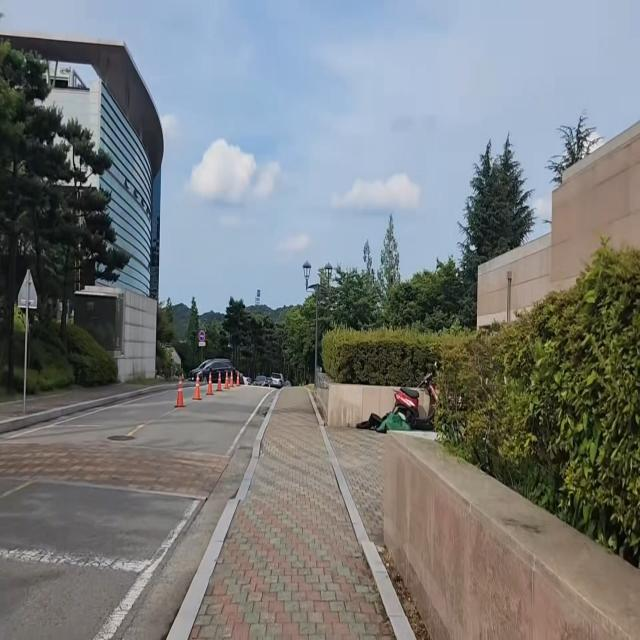obstacle: (12, 258, 42, 430)
road: (0, 384, 278, 640)
sidewalk: (168, 385, 414, 640)
